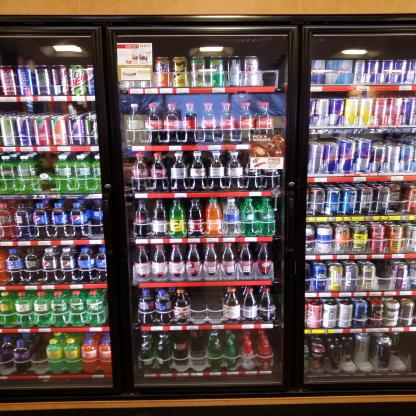Void: (192, 291, 225, 324), (258, 49, 280, 85), (32, 339, 48, 373), (187, 336, 205, 364), (395, 340, 410, 372), (381, 262, 394, 290), (39, 156, 52, 169)
